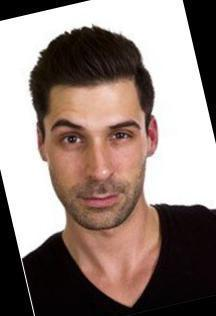Sober: (48, 78, 144, 216)
